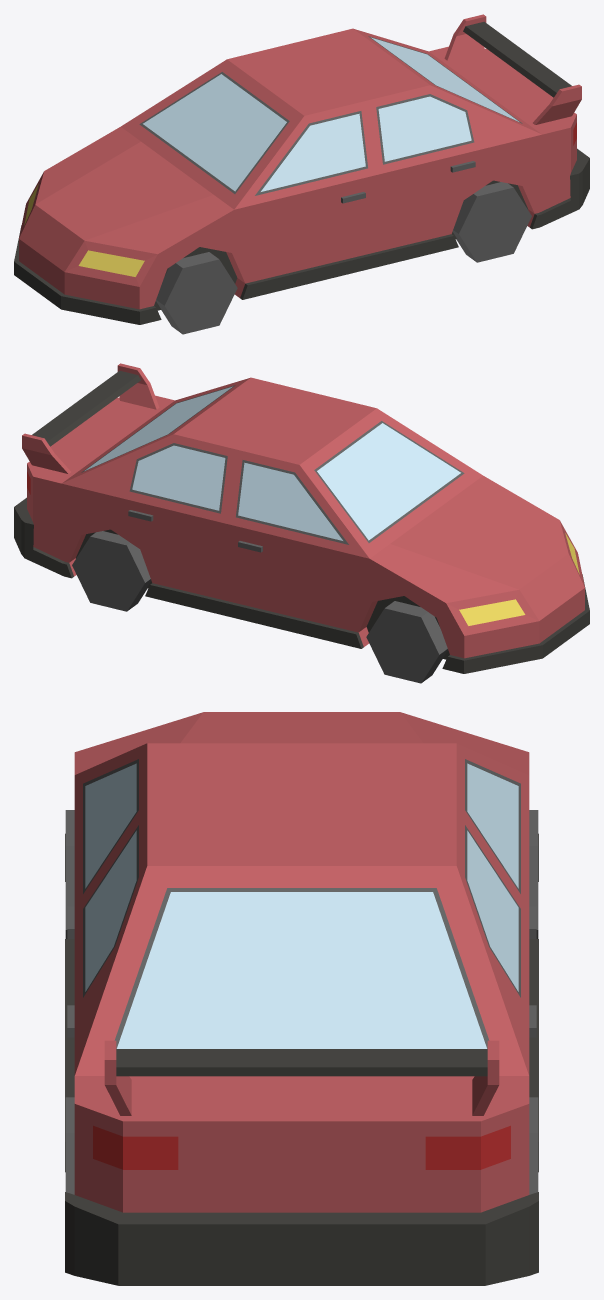
Rendered from Car_1_3.fbx.
3 views of the same model, one above another, from view 1: azimuth 30°, elevation 25°; view 2: azimuth 150°, elevation 25°; view 3: azimuth 270°, elevation 25° (orthographic). The views are drawn at different scales.
Visible parts, largest first — view 1: Car_1_3; view 2: Car_1_3; view 3: Car_1_3.
Boxes of the visible parts, bbox=[...] form: Car_1_3: bbox=[14, 14, 589, 334]; Car_1_3: bbox=[14, 363, 589, 683]; Car_1_3: bbox=[65, 712, 538, 1285].
Bounding box in the file's own units: 7.36 × 2.35 × 2.98.
1 material, 1 textured.
